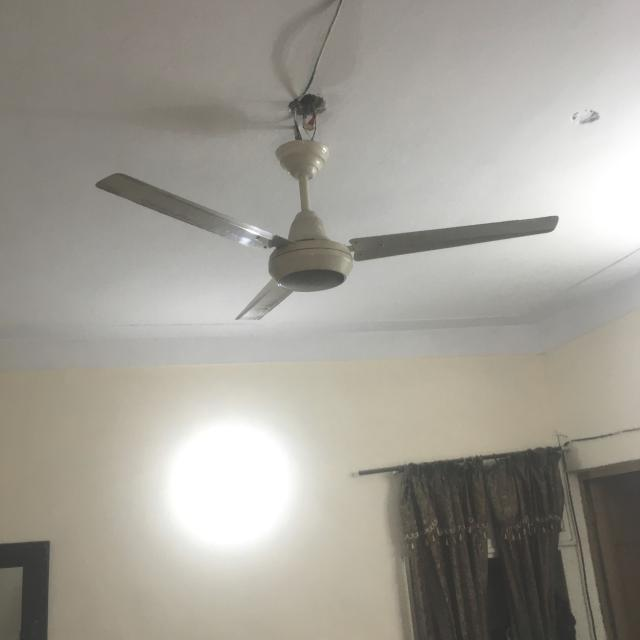off: (86, 159, 582, 340)
